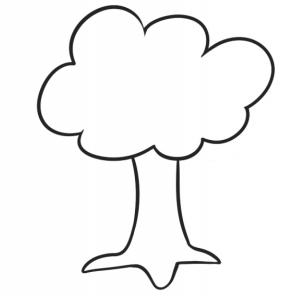tree: (32, 1, 286, 290)
